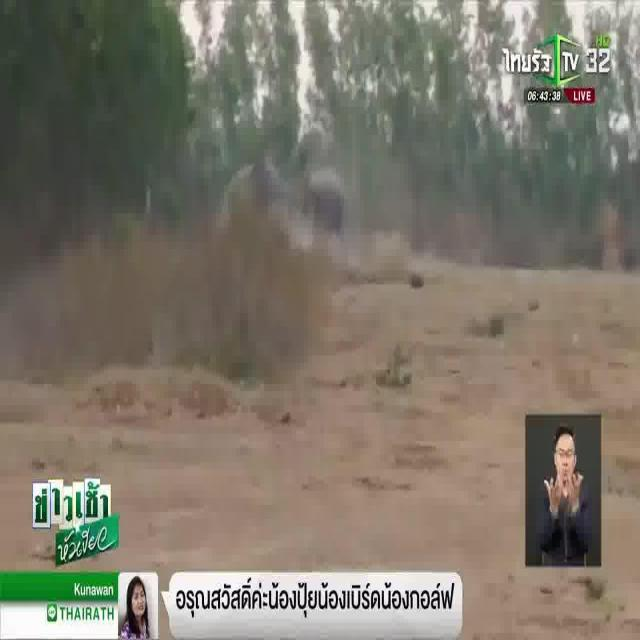Elephant: (222, 143, 282, 213), (301, 153, 348, 231)
